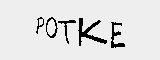Е: (108, 21, 127, 48)
К: (76, 17, 105, 44)
О: (44, 14, 58, 39)
Р: (32, 13, 44, 36)
Т: (59, 17, 76, 45)
